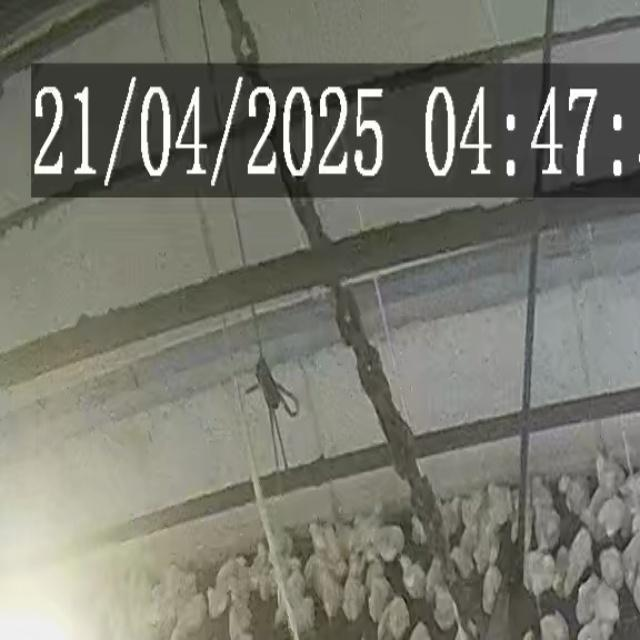chicken: (554, 467, 590, 511), (378, 594, 415, 634), (535, 501, 564, 551), (570, 529, 592, 594), (476, 522, 504, 572), (529, 553, 558, 599), (317, 568, 345, 614), (342, 563, 363, 618), (398, 556, 426, 596), (478, 565, 500, 614), (448, 531, 472, 574), (436, 583, 455, 635), (602, 546, 623, 587), (425, 555, 444, 593)
